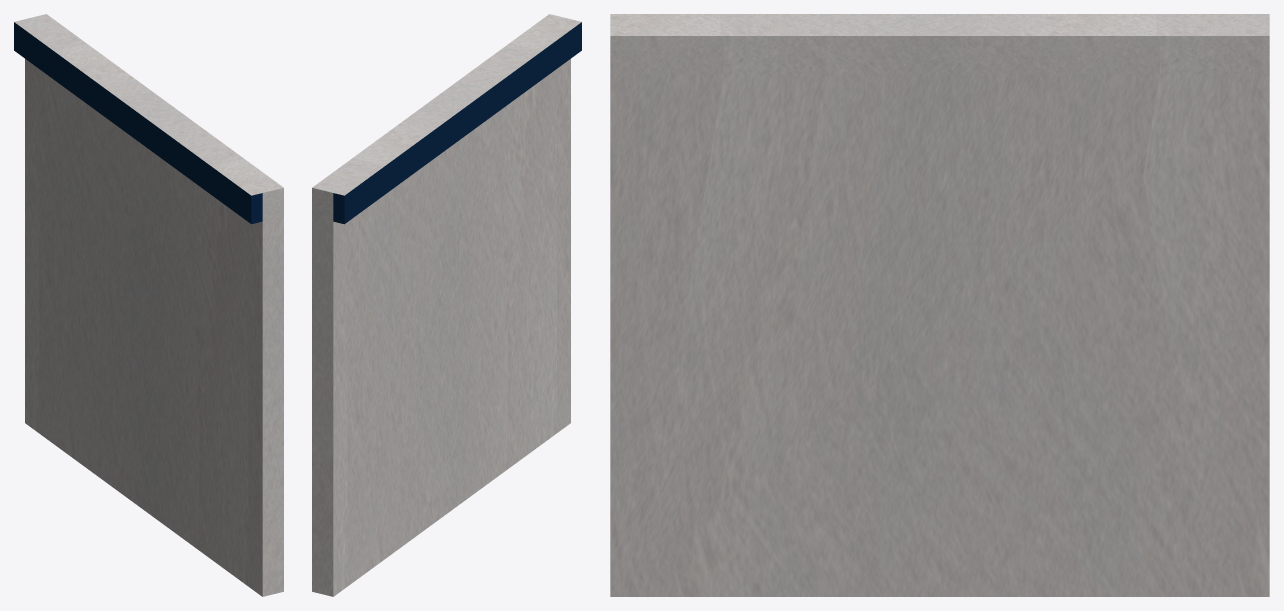
File: wall_Plain.fbx
The picture shows the model from 3 angles, left to right: view 1: azimuth 30°, elevation 25°; view 2: azimuth 150°, elevation 25°; view 3: azimuth 270°, elevation 25°; orthographic projection. The views are drawn at different scales.
Parts seen in each view (by area): view 1: wall_plain; view 2: wall_plain; view 3: wall_plain.
Part boxes in pixels (<box>): wall_plain: <box>14,14,283,596</box>; wall_plain: <box>312,14,581,596</box>; wall_plain: <box>610,14,1269,596</box>.
Size of the model in its own units: 26.87 by 319 by 340.
